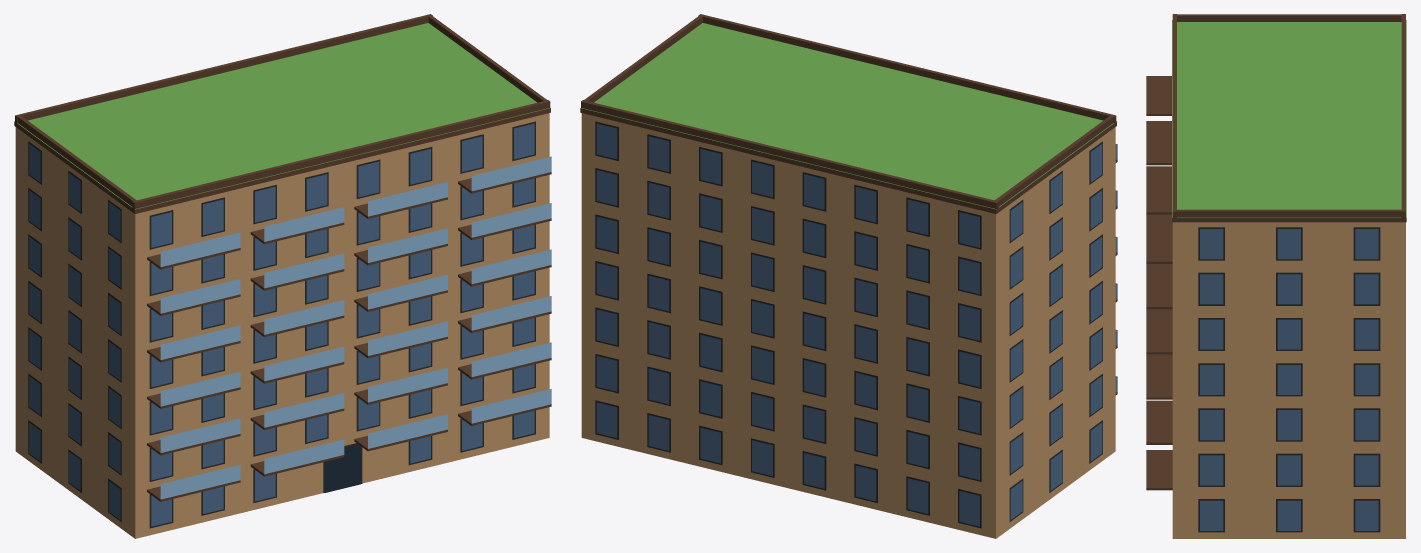
The model's file is immeuble_bois.glb.
3 views of the same model, side by side, from view 1: azimuth 30°, elevation 25°; view 2: azimuth 150°, elevation 25°; view 3: azimuth 270°, elevation 25° (orthographic). The views are drawn at different scales.
Parts seen in each view (by area): view 1: immeuble_bois; view 2: immeuble_bois; view 3: immeuble_bois.
Part boxes in pixels (x1,y1,x2,y2): immeuble_bois: (14,14,551,538); immeuble_bois: (580,14,1117,538); immeuble_bois: (1146,14,1406,538).
Bounding box in the file's own units: 28.1 × 21.7 × 15.65.
Materials: 1 (1 with a texture image).
